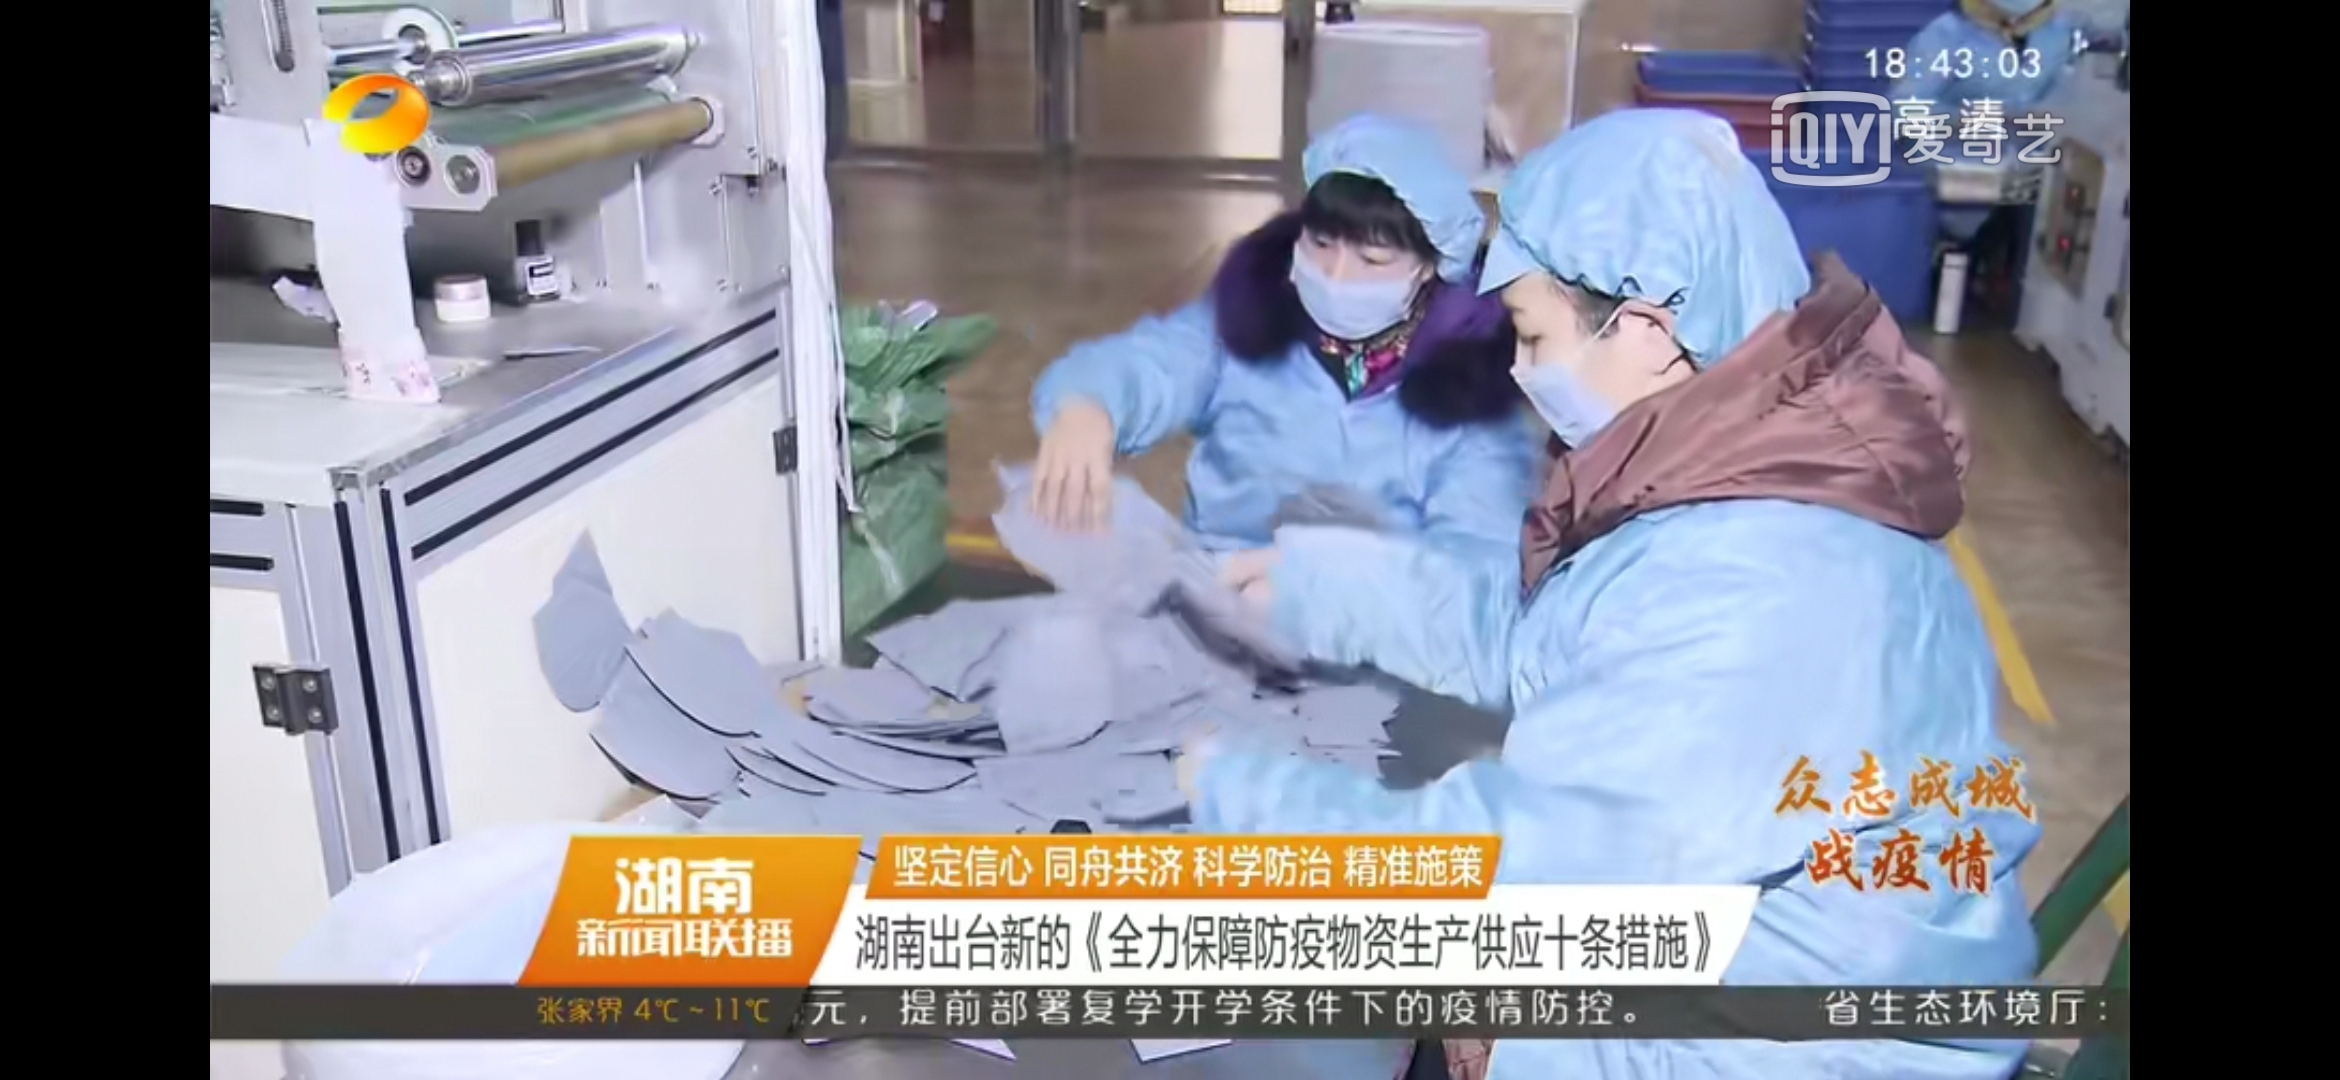correctlyWear: (1486, 254, 1677, 458), (1283, 210, 1436, 340)
